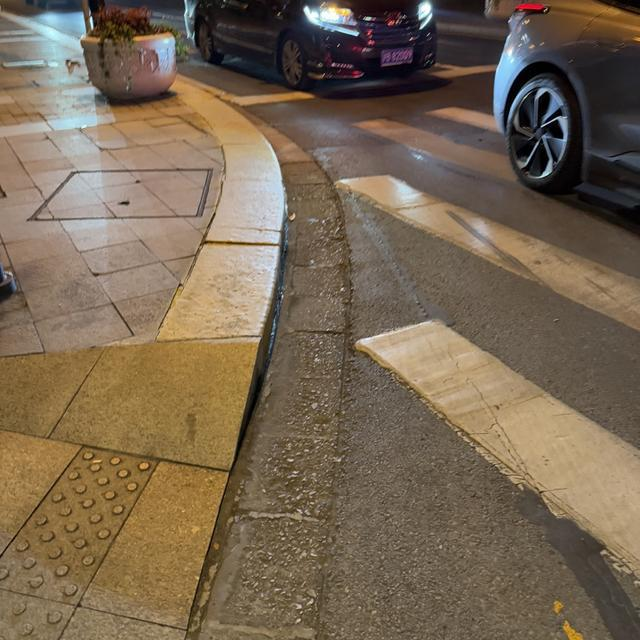curb: (156, 79, 286, 342), (0, 11, 81, 55)
